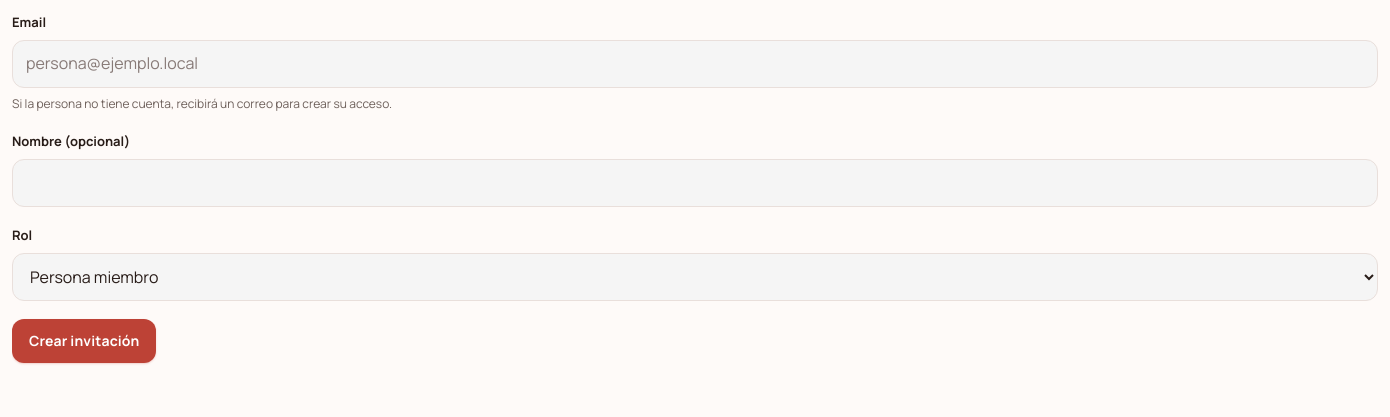
Test: InvitationForm › shows the existing_account delivery message
In the field labelled "Email": point(695, 64) top-left (12, 40), bottom-right (1378, 88), type "invitee@example.test"
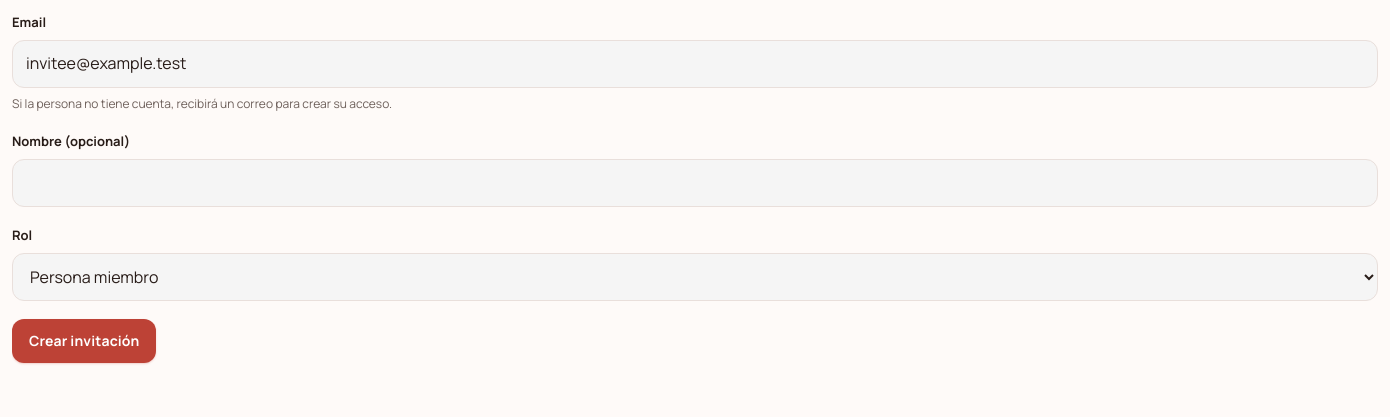
Submit the form named "Invitar a una persona al hogar"
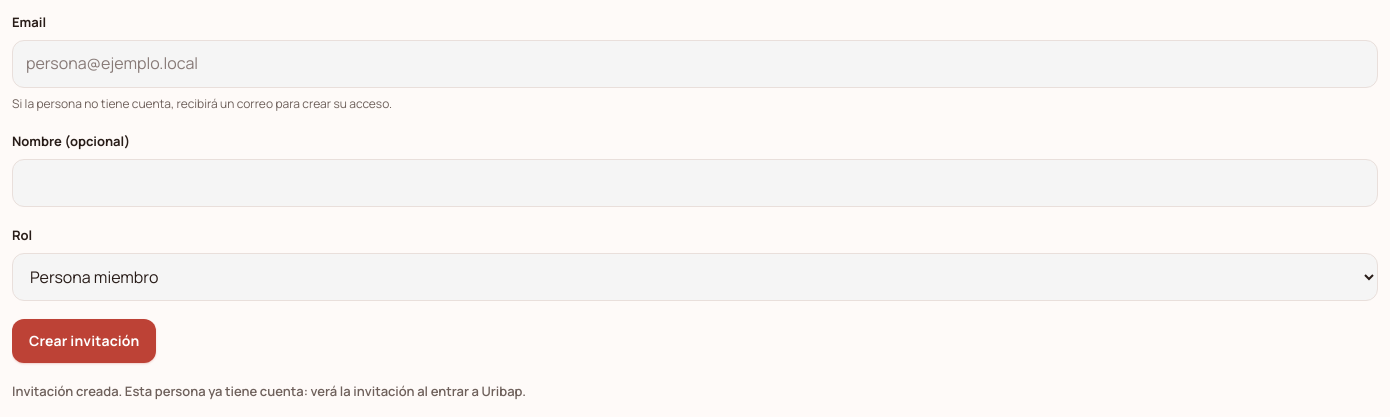
Result: the message shows "Invitación creada. Esta persona ya tiene cuenta: verá la invitación al entrar a Uribap." at top-left (12, 382), bottom-right (526, 400)
